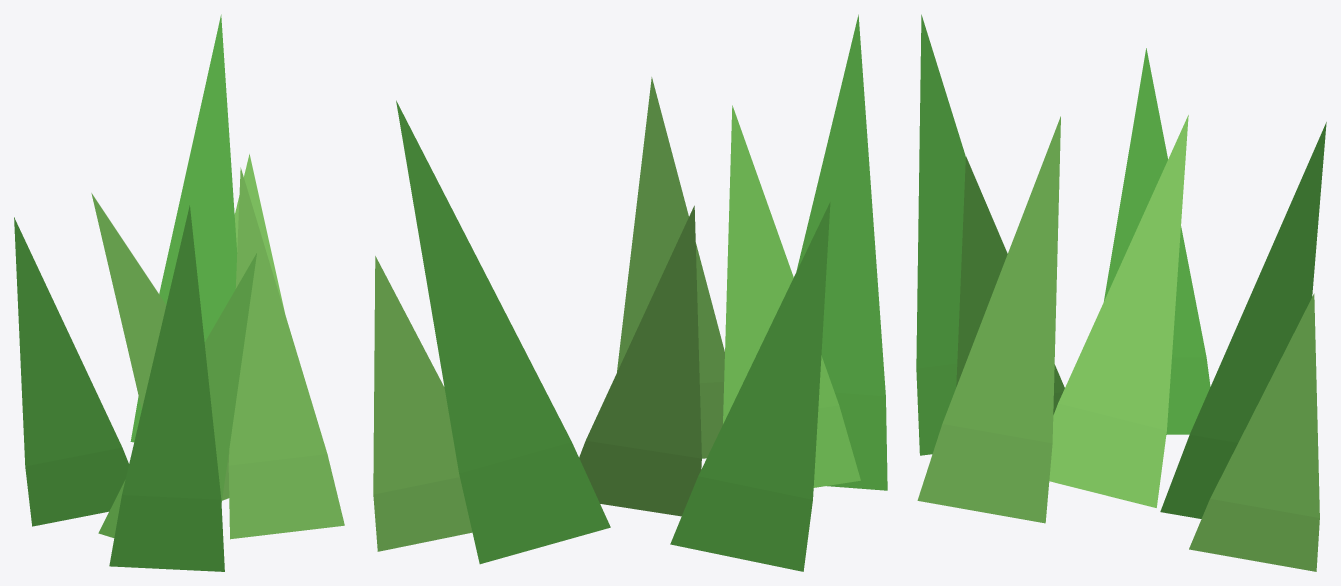
File: GrassTuft_0.glb
3 renders of one model, left to right at view 1: azimuth 30°, elevation 25°; view 2: azimuth 150°, elevation 25°; view 3: azimuth 270°, elevation 25°, orthographic. The views are drawn at different scales.
Visible parts, largest first — view 1: GrassTuft_0; view 2: GrassTuft_0; view 3: GrassTuft_0.
Part boxes in pixels (box(x1,y1,x2,y2)): GrassTuft_0: box(14, 14, 344, 571); GrassTuft_0: box(373, 14, 887, 571); GrassTuft_0: box(916, 14, 1326, 571).
Bounding box in the file's own units: 1.61 × 1.94 × 1.63.
Materials: 1 (1 with a texture image).
